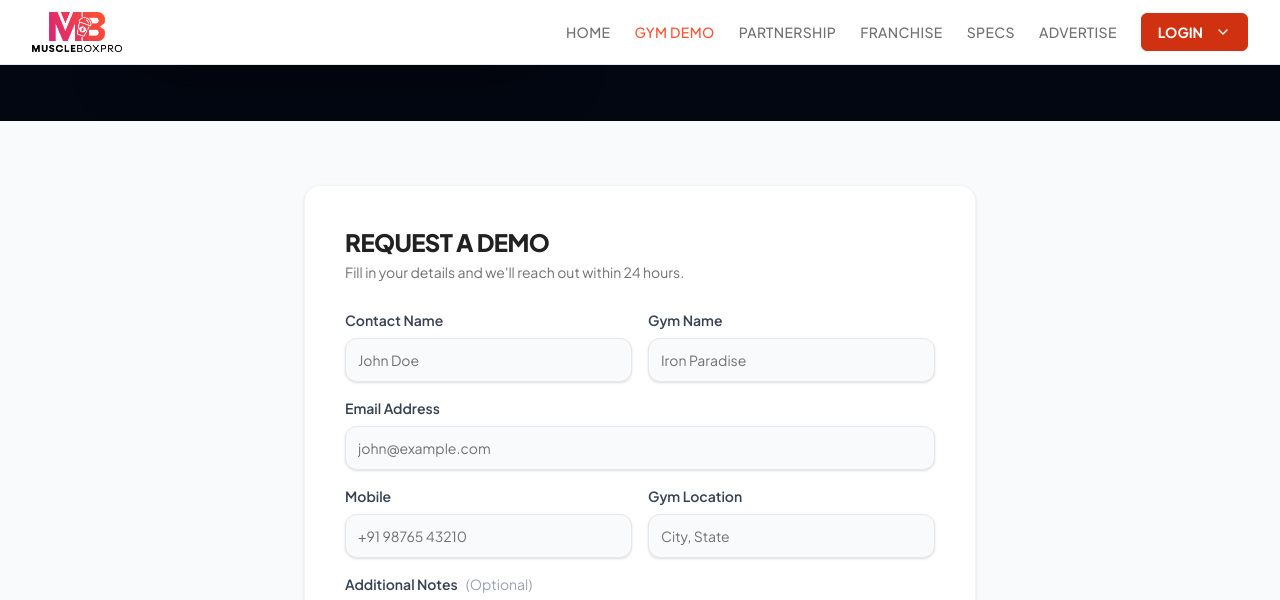
GymDemo page › shows success message after successful form submit
(page scrolled)
Type "John Smith" into the field with placeholder "John Doe" at [488, 360], box x1=345 y1=338 x2=632 y2=382
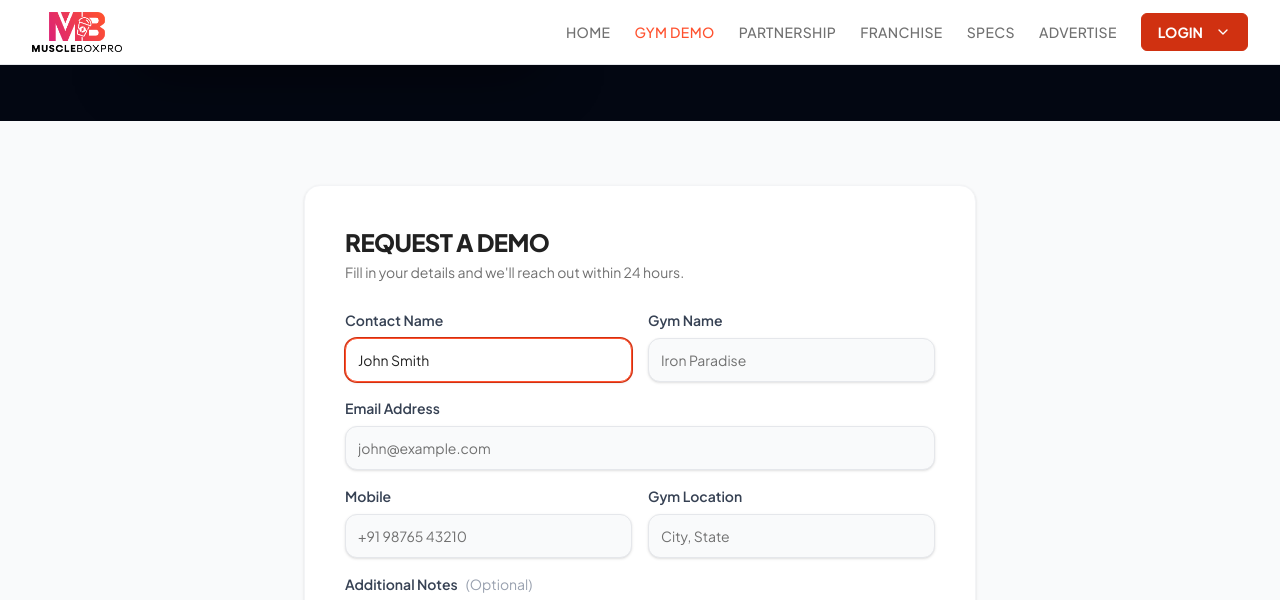
Type "Power Gym" into the field with placeholder "Iron Paradise" at [792, 360], box x1=648 y1=338 x2=935 y2=382
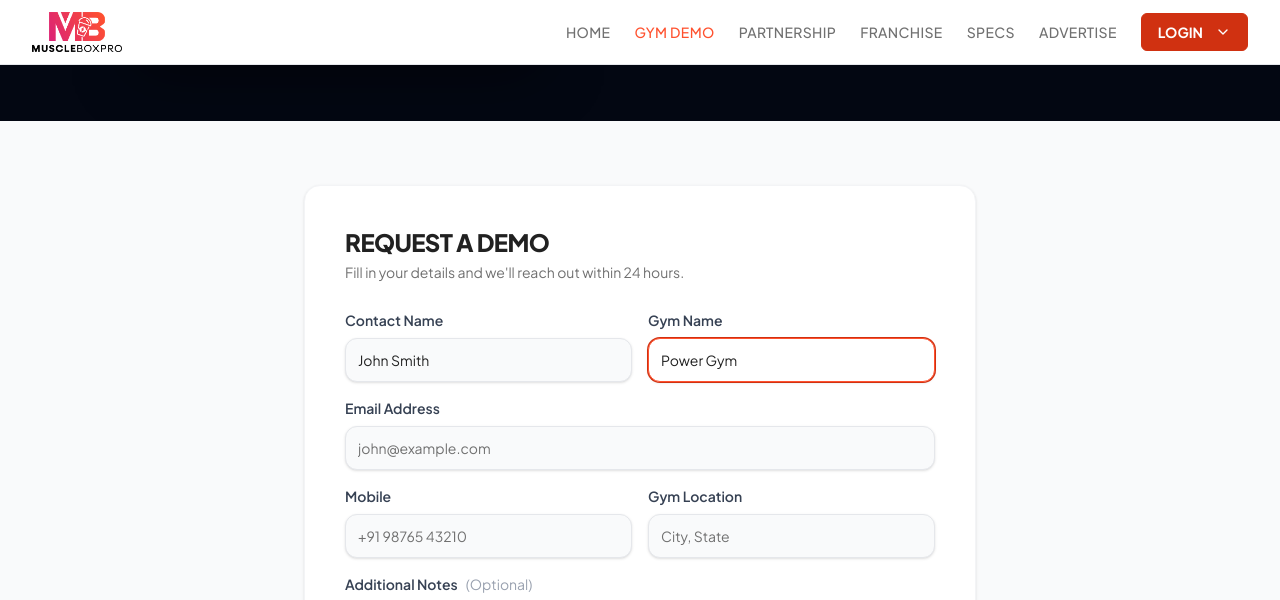
Type "john@gym.com" into the field with placeholder "john@example.com" at [640, 448], box x1=345 y1=426 x2=935 y2=470
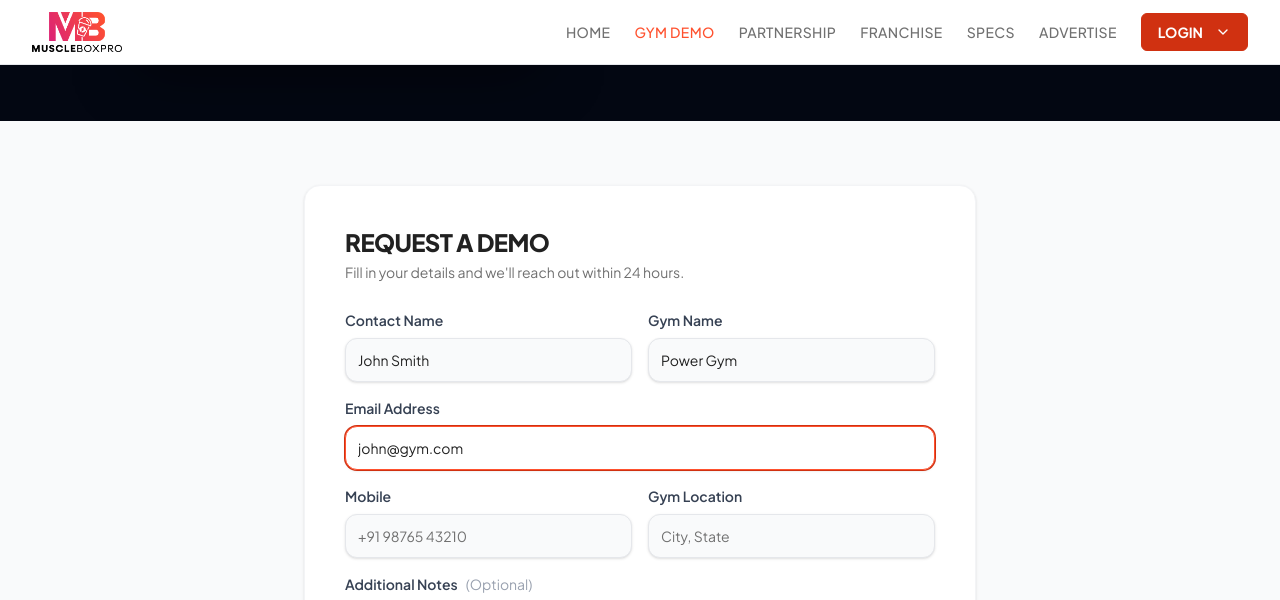
Type "9876543210" into the field with placeholder "+91 98765 43210" at [488, 536], box x1=345 y1=514 x2=632 y2=558
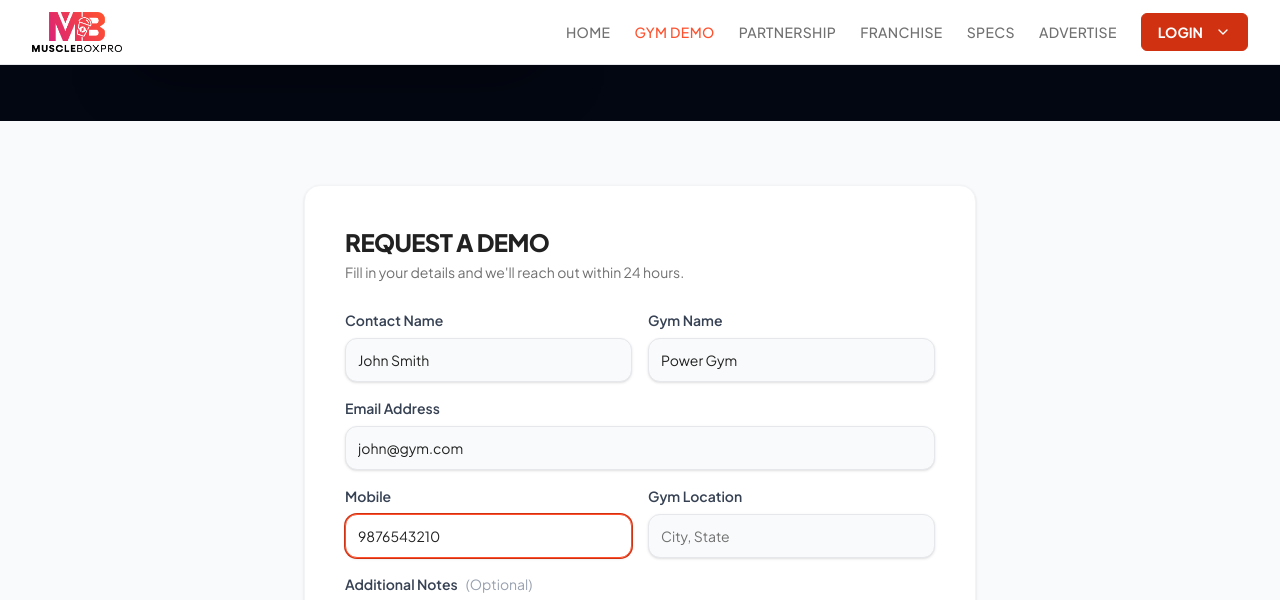
Type "Delhi" into the field with placeholder "City, State" at [792, 536], box x1=648 y1=514 x2=935 y2=558
(page scrolled)
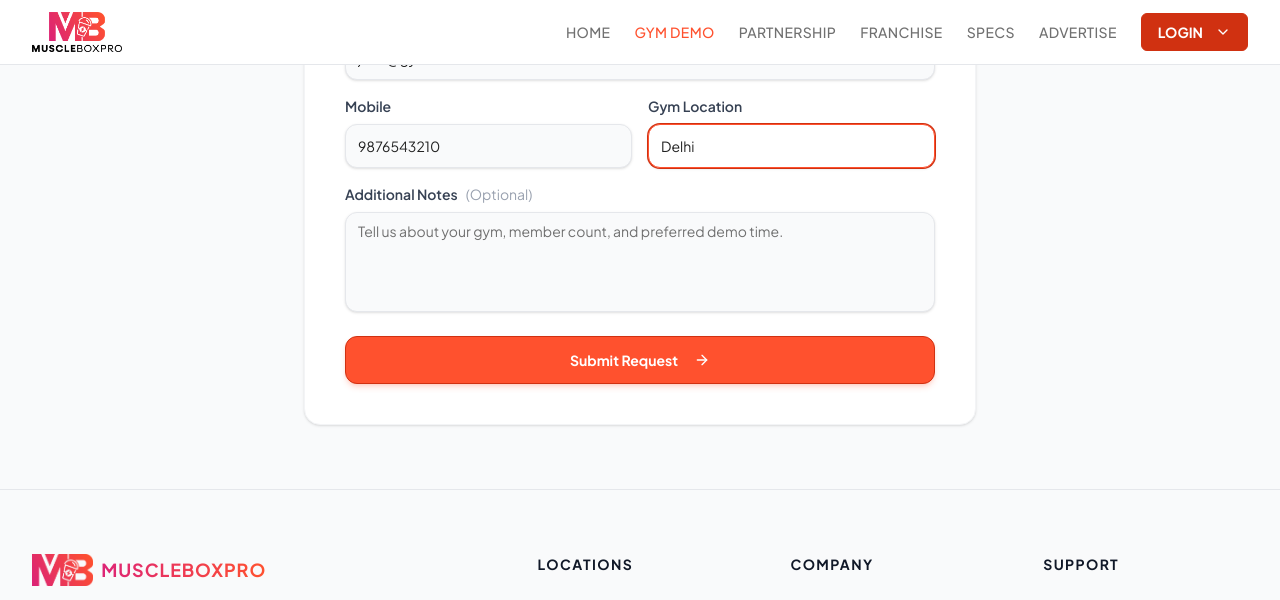
Click the button "Submit Request" at [640, 360], box x1=345 y1=336 x2=935 y2=384
(page scrolled)
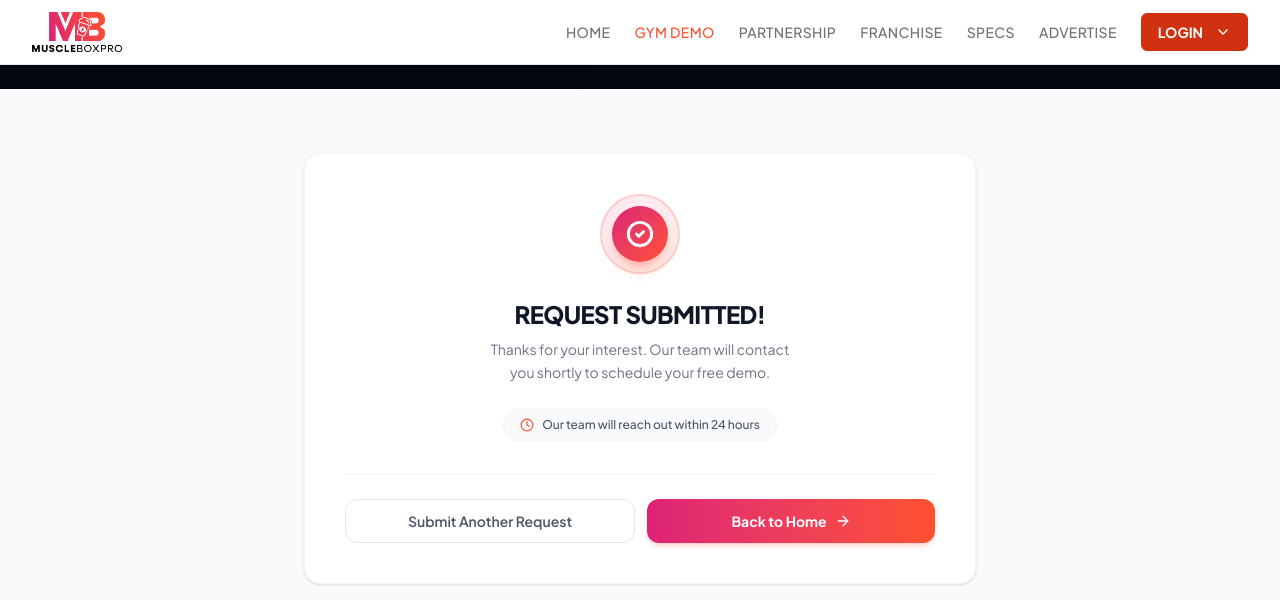
Check: the text "Thanks for your interest" is shown, box x1=491 y1=340 x2=789 y2=381
